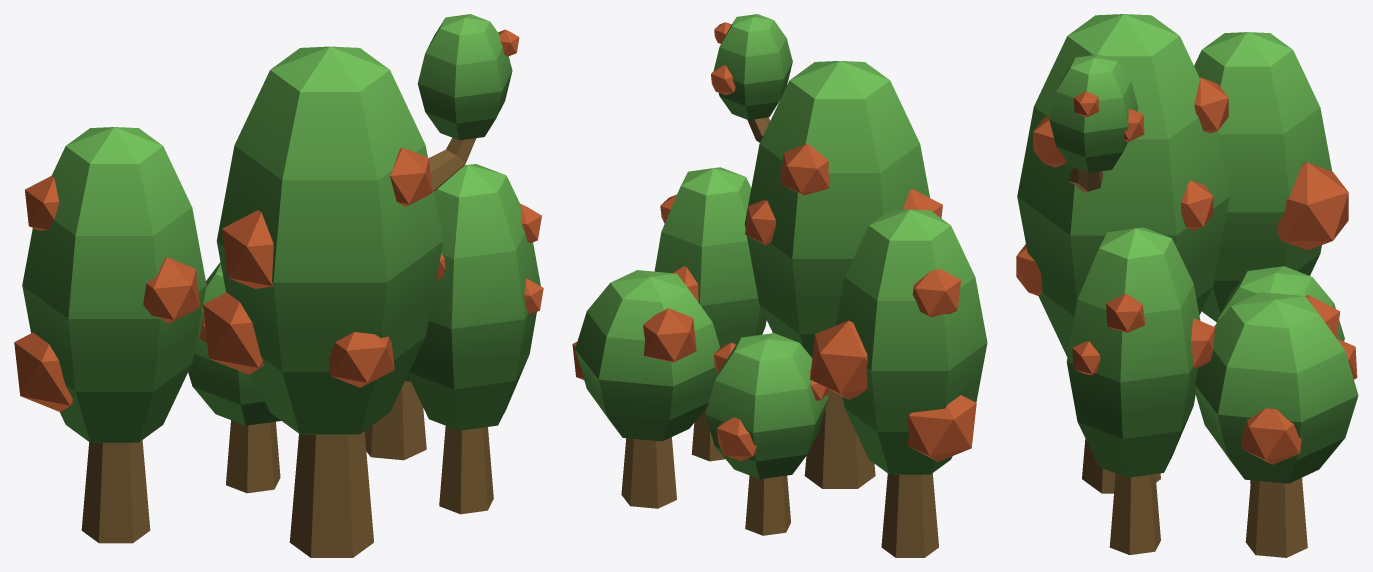
File: resource_tree2.fbx
3 views of the same model, side by side, from view 1: azimuth 30°, elevation 25°; view 2: azimuth 150°, elevation 25°; view 3: azimuth 270°, elevation 25° (orthographic). The views are drawn at different scales.
Visible parts, largest first — view 1: resource_tree2; view 2: resource_tree2; view 3: resource_tree2.
Boxes of the visible parts, left/top/right/bottom form: resource_tree2: left=14, top=14, right=543, bottom=557; resource_tree2: left=572, top=14, right=987, bottom=557; resource_tree2: left=1016, top=14, right=1358, bottom=557.
Size of the model in its own units: 225 by 233 by 152.
